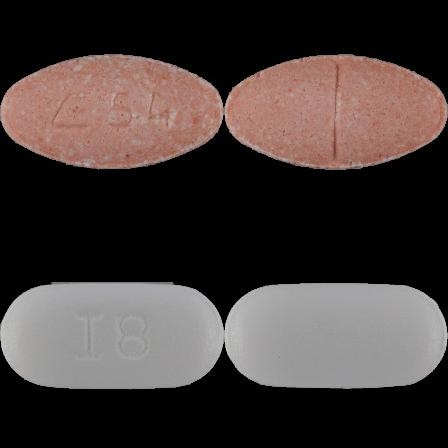0904-5811: (0, 0, 224, 224)
